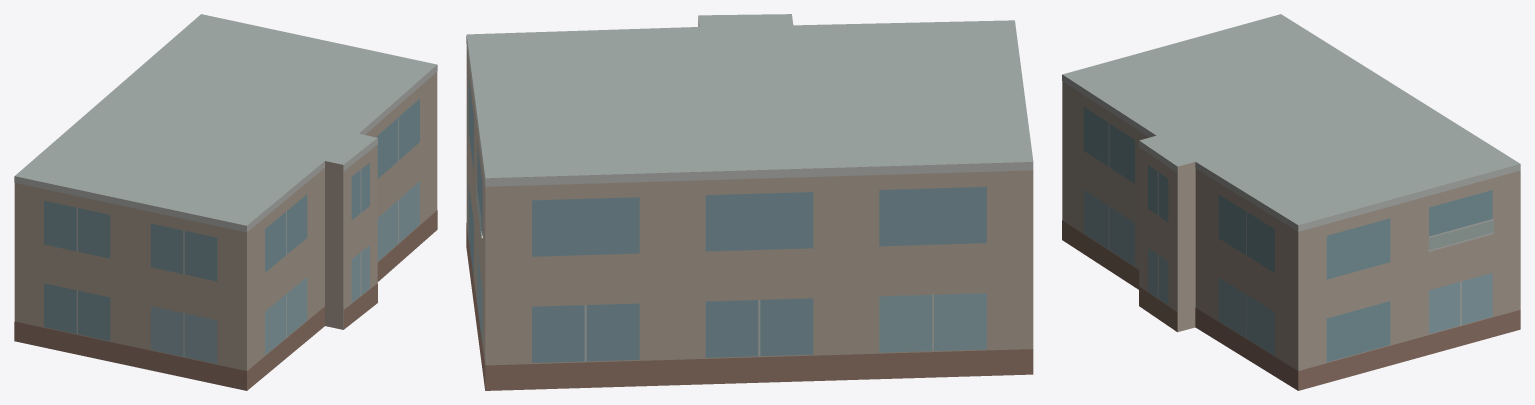
The model's file is survey-upis-32621841.glb.
The picture shows the model from 3 angles, left to right: view 1: azimuth 30°, elevation 25°; view 2: azimuth 150°, elevation 25°; view 3: azimuth 270°, elevation 25°; orthographic projection. The views are drawn at different scales.
Parts seen in each view (by area): view 1: survey-upis-32621841.tmp; view 2: survey-upis-32621841.tmp; view 3: survey-upis-32621841.tmp.
Boxes of the visible parts, box(x1,y1,x2,y2) form: survey-upis-32621841.tmp: box(14, 14, 437, 390); survey-upis-32621841.tmp: box(466, 14, 1033, 390); survey-upis-32621841.tmp: box(1062, 14, 1520, 390).
Bounding box in the file's own units: 16.7 × 6.1 × 15.31.
